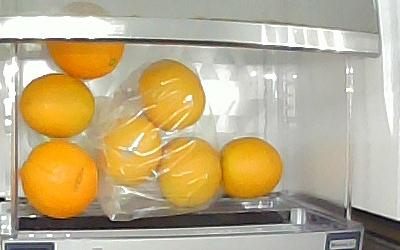orange: (20, 141, 99, 219), (20, 74, 94, 139), (220, 136, 282, 200), (45, 39, 125, 82)
orange_vinyl: (137, 60, 205, 130), (98, 115, 163, 185), (159, 139, 222, 206)
